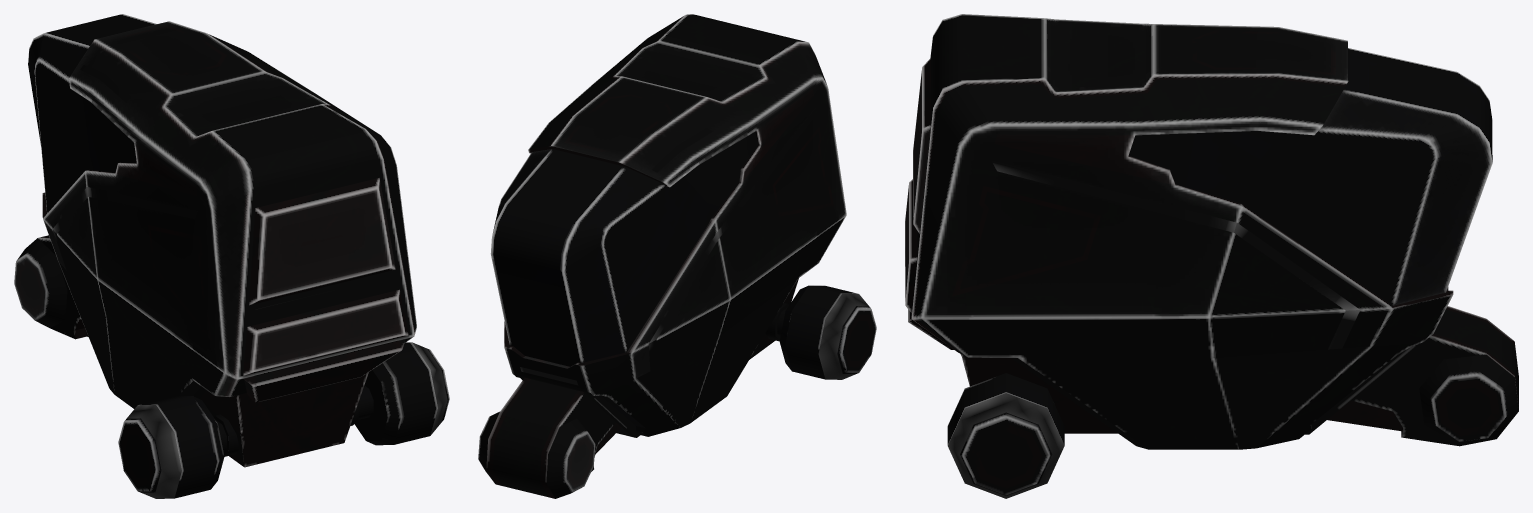
Rendered from propRickshaw.glb.
The picture shows the model from 3 angles, left to right: view 1: azimuth 30°, elevation 25°; view 2: azimuth 150°, elevation 25°; view 3: azimuth 270°, elevation 25°; orthographic projection. The views are drawn at different scales.
Visible parts, largest first — view 1: propRickshaw; view 2: propRickshaw; view 3: propRickshaw.
Boxes of the visible parts, left/top/right/bottom form: propRickshaw: left=14, top=14, right=449, bottom=498; propRickshaw: left=478, top=14, right=876, bottom=498; propRickshaw: left=905, top=14, right=1518, bottom=498.
Bounding box in the file's own units: 2.25 × 2.48 × 3.62.
1 material, 1 textured.
